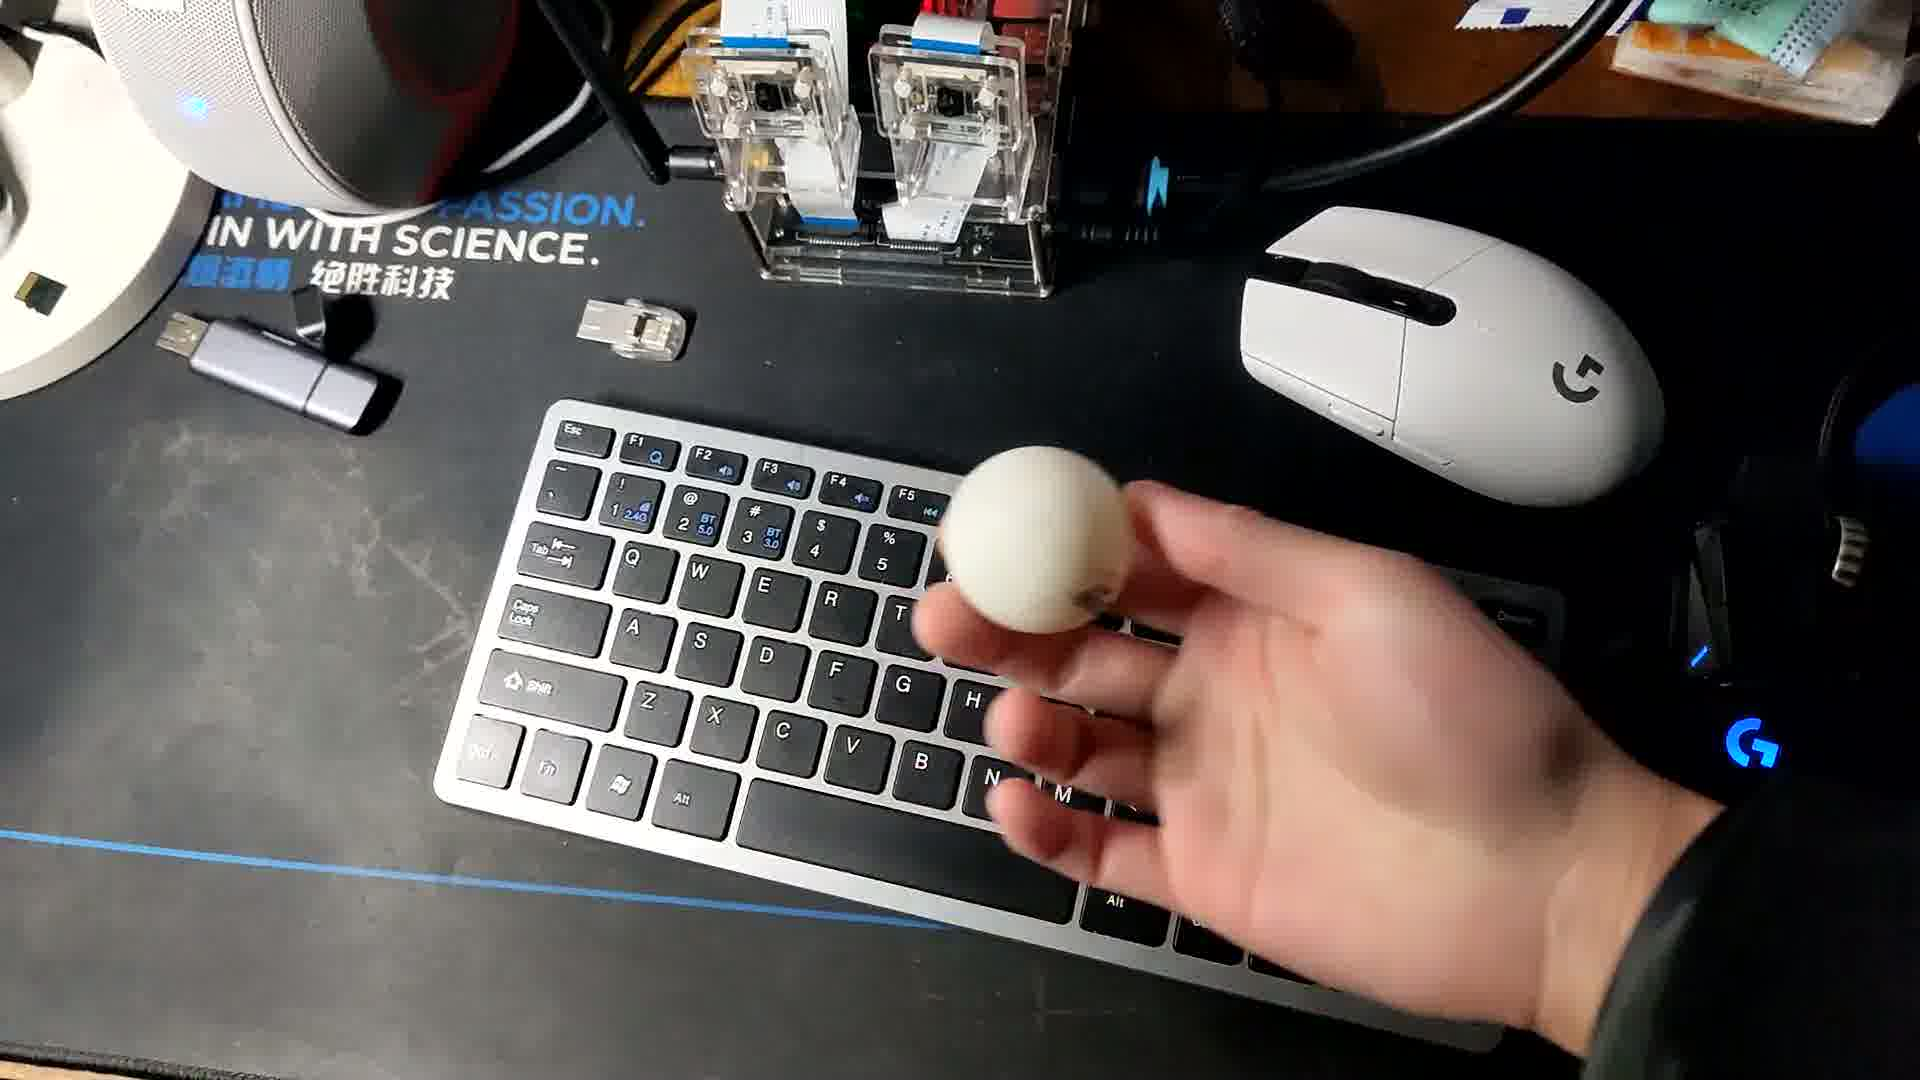Ball: (938, 440, 1121, 626)
